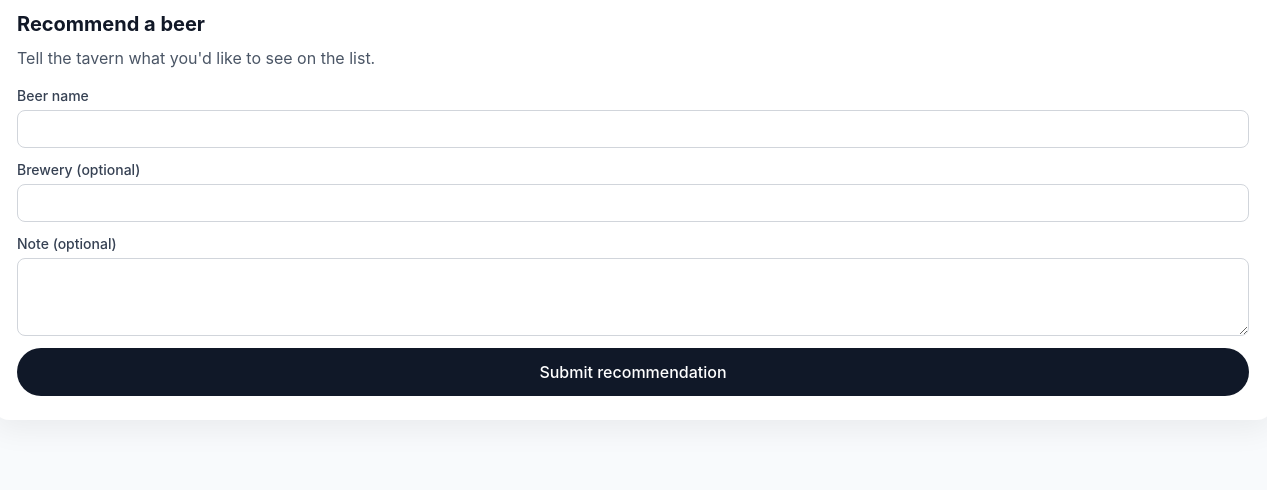
RecommendBeer › rejects submission without a beer name
Click the button "Submit recommendation". click: {"x": 633, "y": 372}
box: [17,348,1249,396]
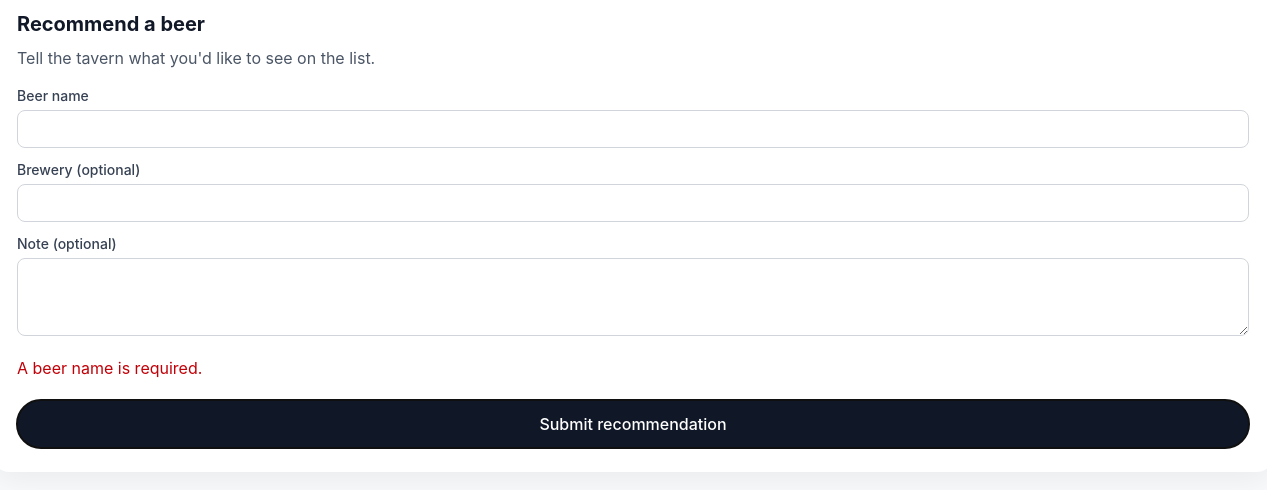
Check: the text "A beer name is required." is shown, box [17,358,202,378]
